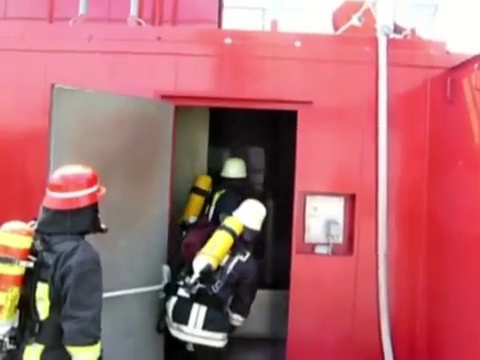firefighter: (1, 155, 116, 360), (163, 197, 269, 359), (184, 150, 250, 227)
